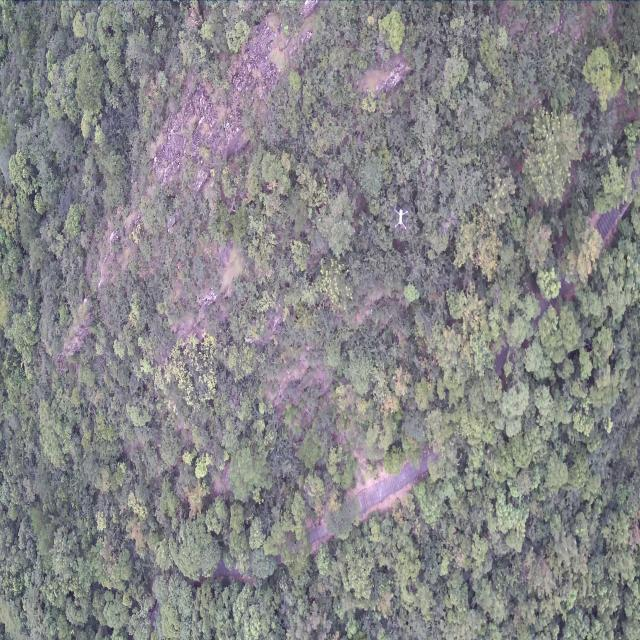drone: (393, 209, 408, 229)
